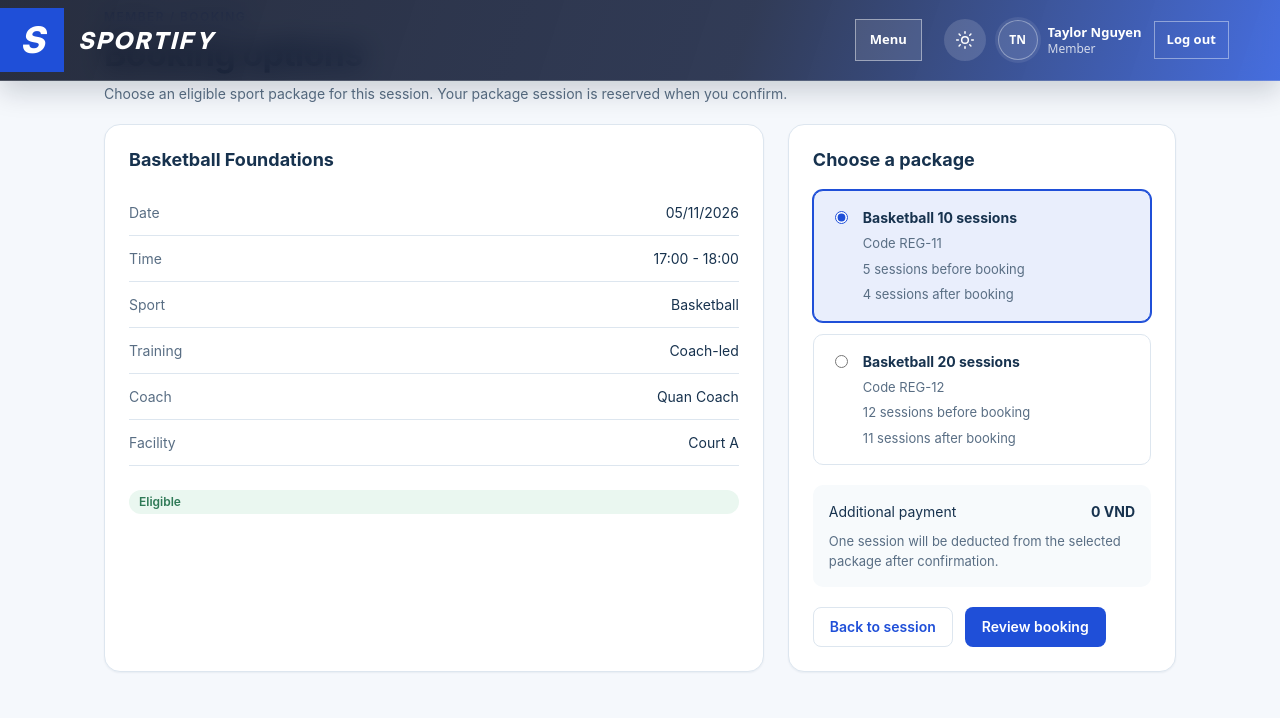
FE-09 member booking screens › revalidates the package, posts one booking on rapid double click and shows confirmation and calendar link
(page scrolled)
Expected: the heading "Booking options" is shown, [104,33,363,74]
Expected: the text "5 sessions before booking" is shown, [863,260,1025,279]
Click the link "Review booking": x=1035, y=627 [965,607,1106,647]
(page scrolled)
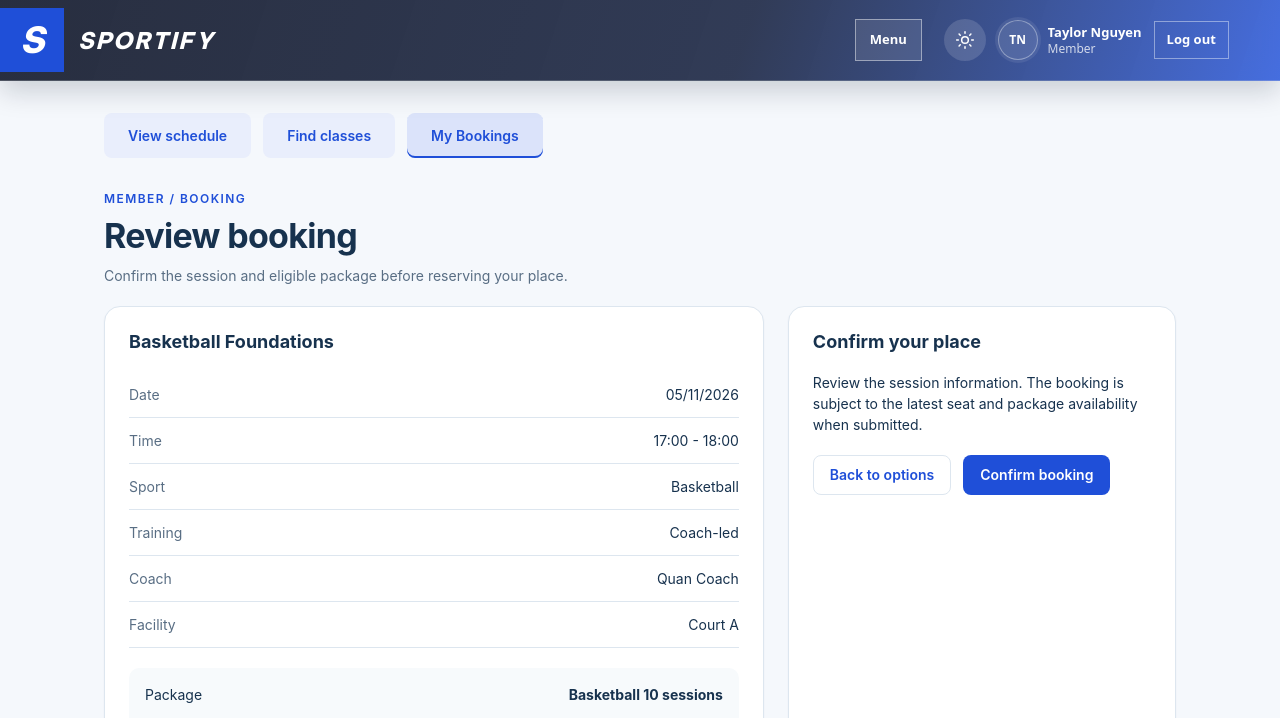
Expected: the heading "Review booking" is shown, [104,215,357,256]
Double-click the button "Confirm booking": x=1037, y=475 [963,455,1110,495]
(page scrolled)
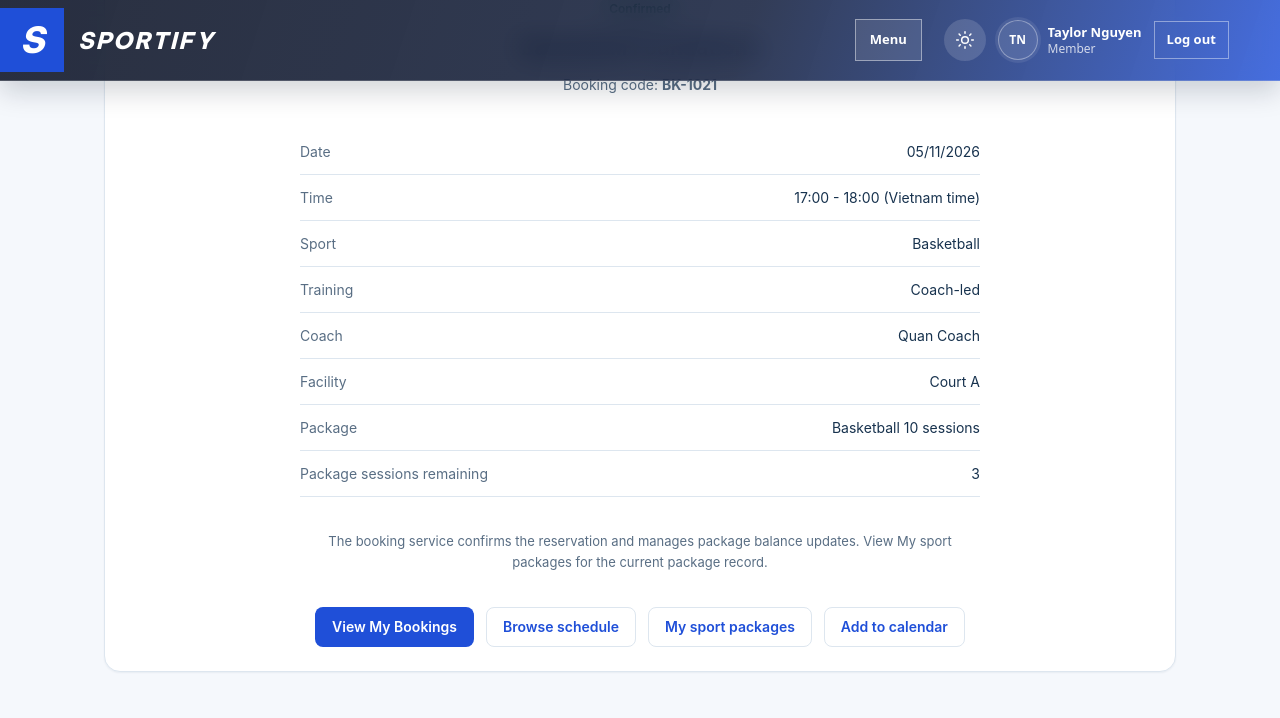
Expected: the text "BK-1021" is shown, [662,76,717,93]
Expected: the text "3" is shown, [971,463,980,484]
